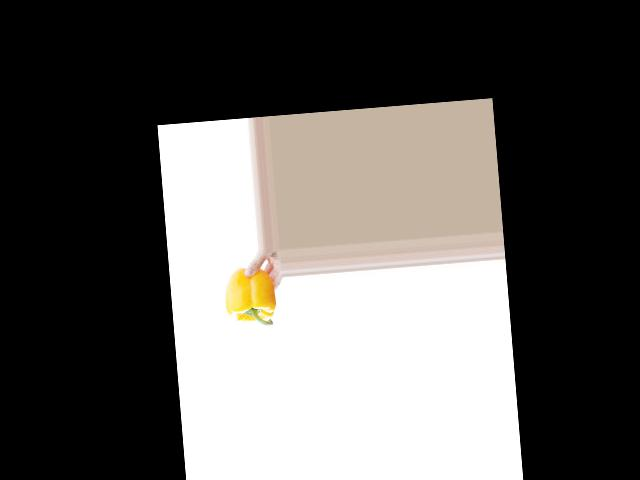bell_pepper: (221, 264, 277, 331)
